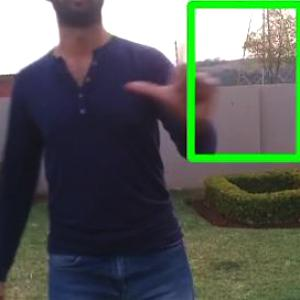land_hand: (124, 19, 220, 123)
